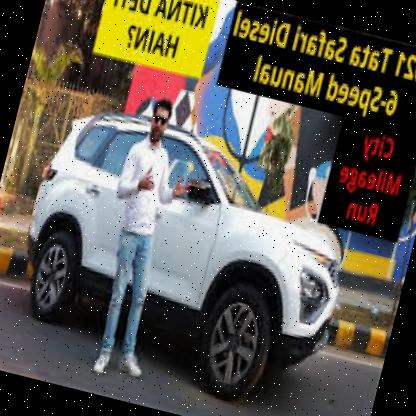car: (0, 86, 377, 416)
person: (66, 89, 214, 390)
